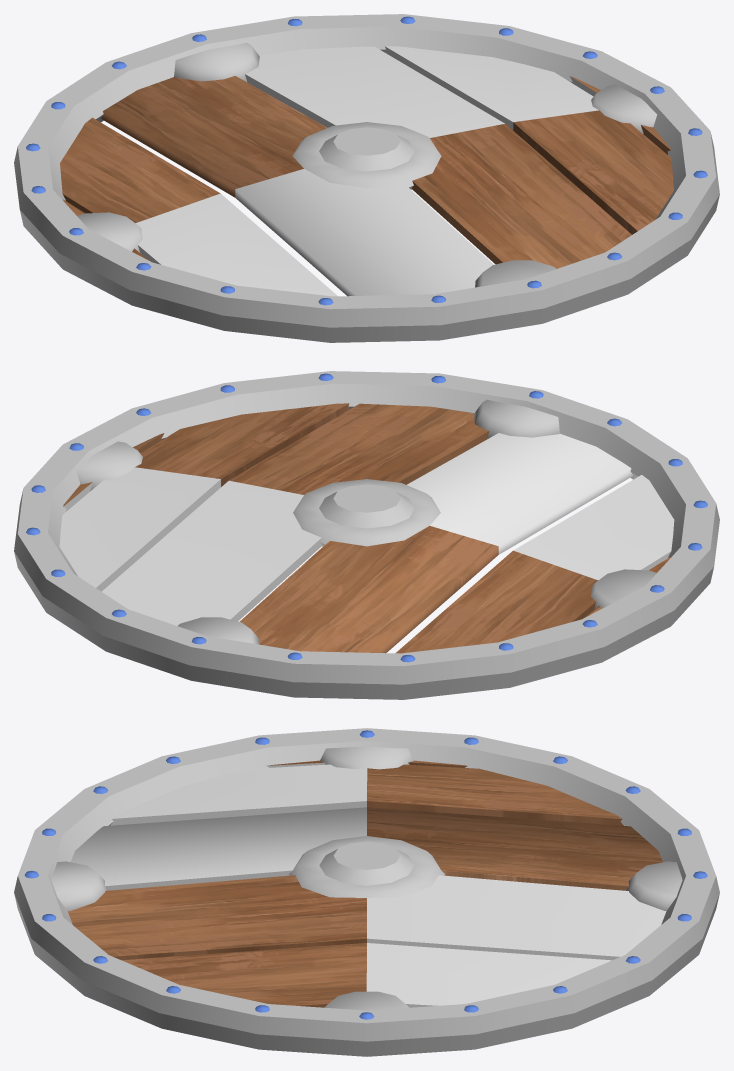
Rendered from Shield_1.fbx.
3 views of the same model, one above another, from view 1: azimuth 30°, elevation 25°; view 2: azimuth 150°, elevation 25°; view 3: azimuth 270°, elevation 25° (orthographic).
Parts seen in each view (by area): view 1: Shield_1; view 2: Shield_1; view 3: Shield_1.
Boxes of the visible parts, <box> form: Shield_1: <box>14,14,719,342</box>; Shield_1: <box>14,371,719,699</box>; Shield_1: <box>14,728,719,1056</box>.
Bounding box in the file's own units: 0.9515 × 0.1052 × 0.9515.
